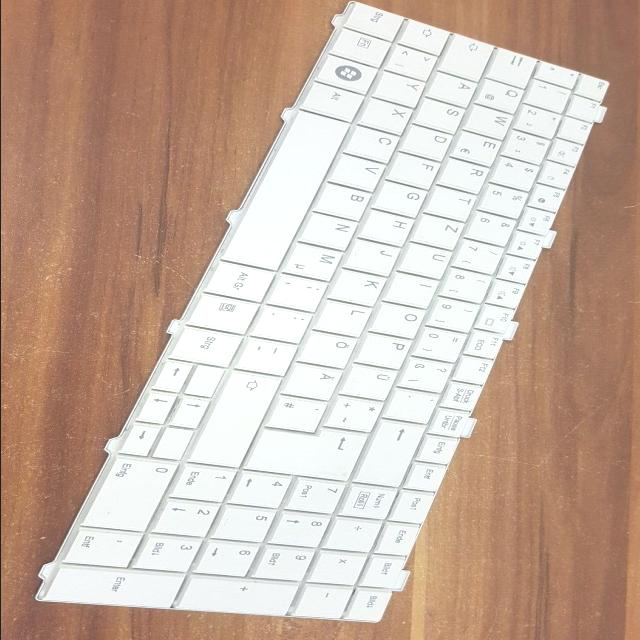0: (417, 326, 469, 362)
1: (528, 80, 574, 112)
2: (517, 103, 562, 137)
3: (506, 129, 552, 164)
4: (495, 156, 541, 190)
5: (481, 183, 531, 218)
6: (468, 211, 518, 245)
7: (455, 239, 507, 274)
8: (443, 266, 495, 302)
9: (430, 296, 482, 333)
a: (429, 71, 479, 105)
accent: (387, 388, 441, 423)
ae: (285, 362, 343, 400)
alt-left: (301, 81, 367, 120)
altgr-right: (206, 261, 278, 301)
b: (316, 182, 374, 220)
c: (346, 124, 400, 162)
caret: (534, 60, 580, 89)
comma: (269, 273, 329, 312)
d: (403, 123, 455, 159)
del: (356, 418, 426, 486)
e: (453, 130, 504, 166)
enter: (250, 427, 368, 479)
f: (389, 151, 441, 187)
g: (375, 180, 427, 217)
h: (362, 209, 414, 246)
hash: (267, 394, 329, 433)
i: (388, 272, 440, 308)
j: (347, 238, 401, 276)
k: (332, 268, 386, 306)
keyboard: (20, 0, 620, 628)
l: (317, 299, 373, 336)
less: (387, 44, 439, 80)
m: (285, 242, 345, 281)
minus: (237, 337, 300, 375)
n: (302, 212, 360, 250)
o: (373, 300, 427, 337)
oe: (301, 331, 357, 368)
p: (357, 332, 413, 368)
plus: (330, 396, 386, 432)
point: (254, 305, 314, 344)
q: (477, 78, 525, 112)
r: (441, 157, 491, 193)
s: (416, 97, 466, 131)
shift-left: (400, 18, 450, 54)
shift-lock: (441, 32, 495, 81)
shift-right: (193, 368, 283, 467)
space: (220, 110, 353, 270)
ss: (403, 356, 455, 392)
strg-left: (345, 1, 404, 40)
strg-right: (171, 326, 245, 366)
t: (427, 185, 479, 221)
tab: (488, 47, 539, 87)
u: (401, 241, 453, 278)
ue: (343, 363, 400, 400)
v: (331, 153, 385, 191)
w: (465, 104, 515, 138)
x: (360, 97, 414, 133)
y: (374, 71, 426, 107)
z: (414, 213, 466, 249)
